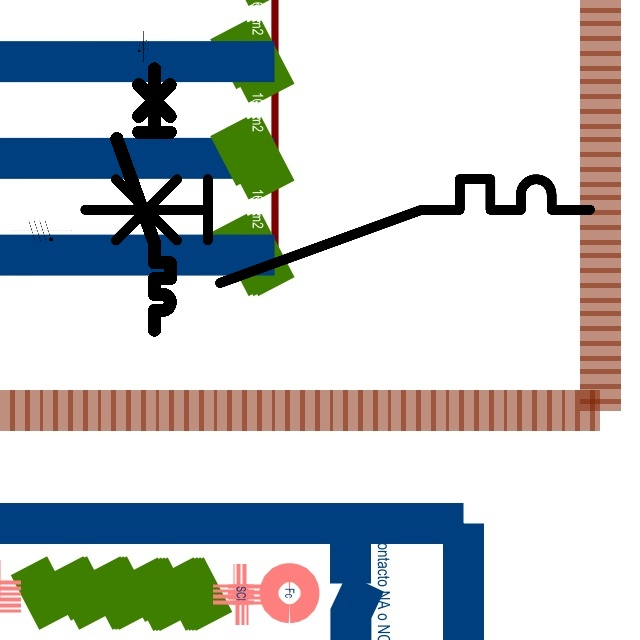interruptor_termomagnetico: (72, 166, 603, 296), (110, 62, 177, 337)
